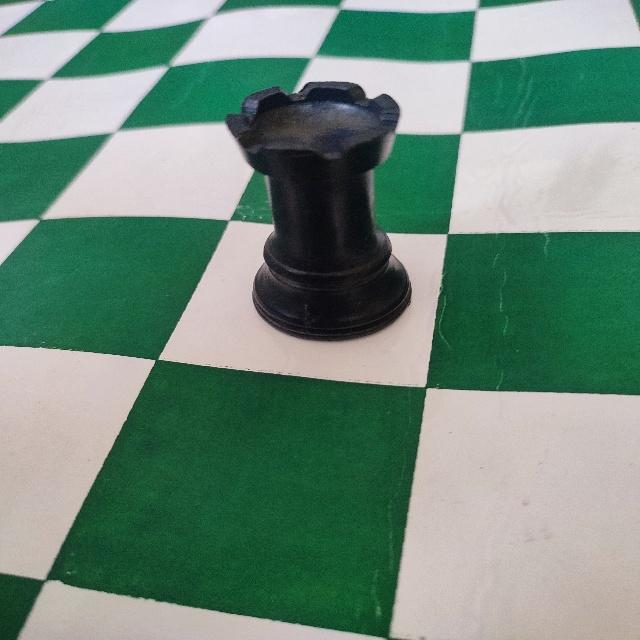Rook: (218, 75, 420, 344)
